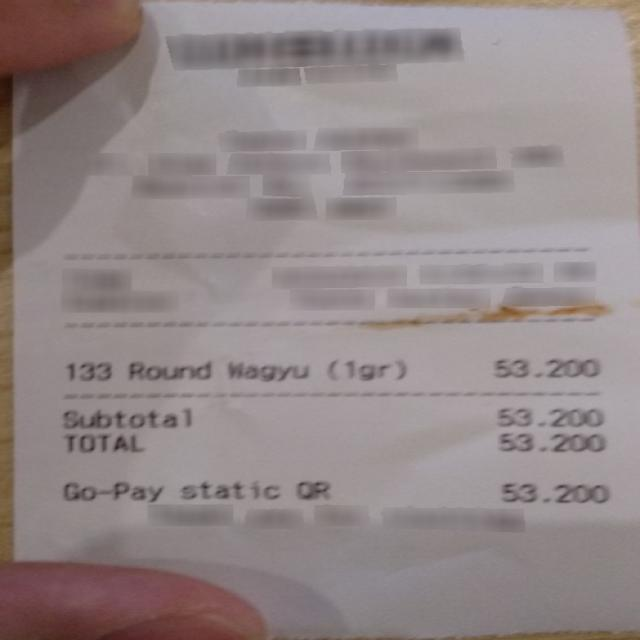text: (60, 409, 186, 427), (498, 482, 606, 502), (493, 358, 598, 378), (176, 480, 280, 500), (59, 480, 161, 500), (497, 432, 603, 451), (496, 408, 601, 426), (224, 359, 307, 381), (125, 359, 211, 380), (326, 358, 404, 379), (63, 434, 140, 452), (62, 360, 112, 380), (295, 479, 327, 499)
